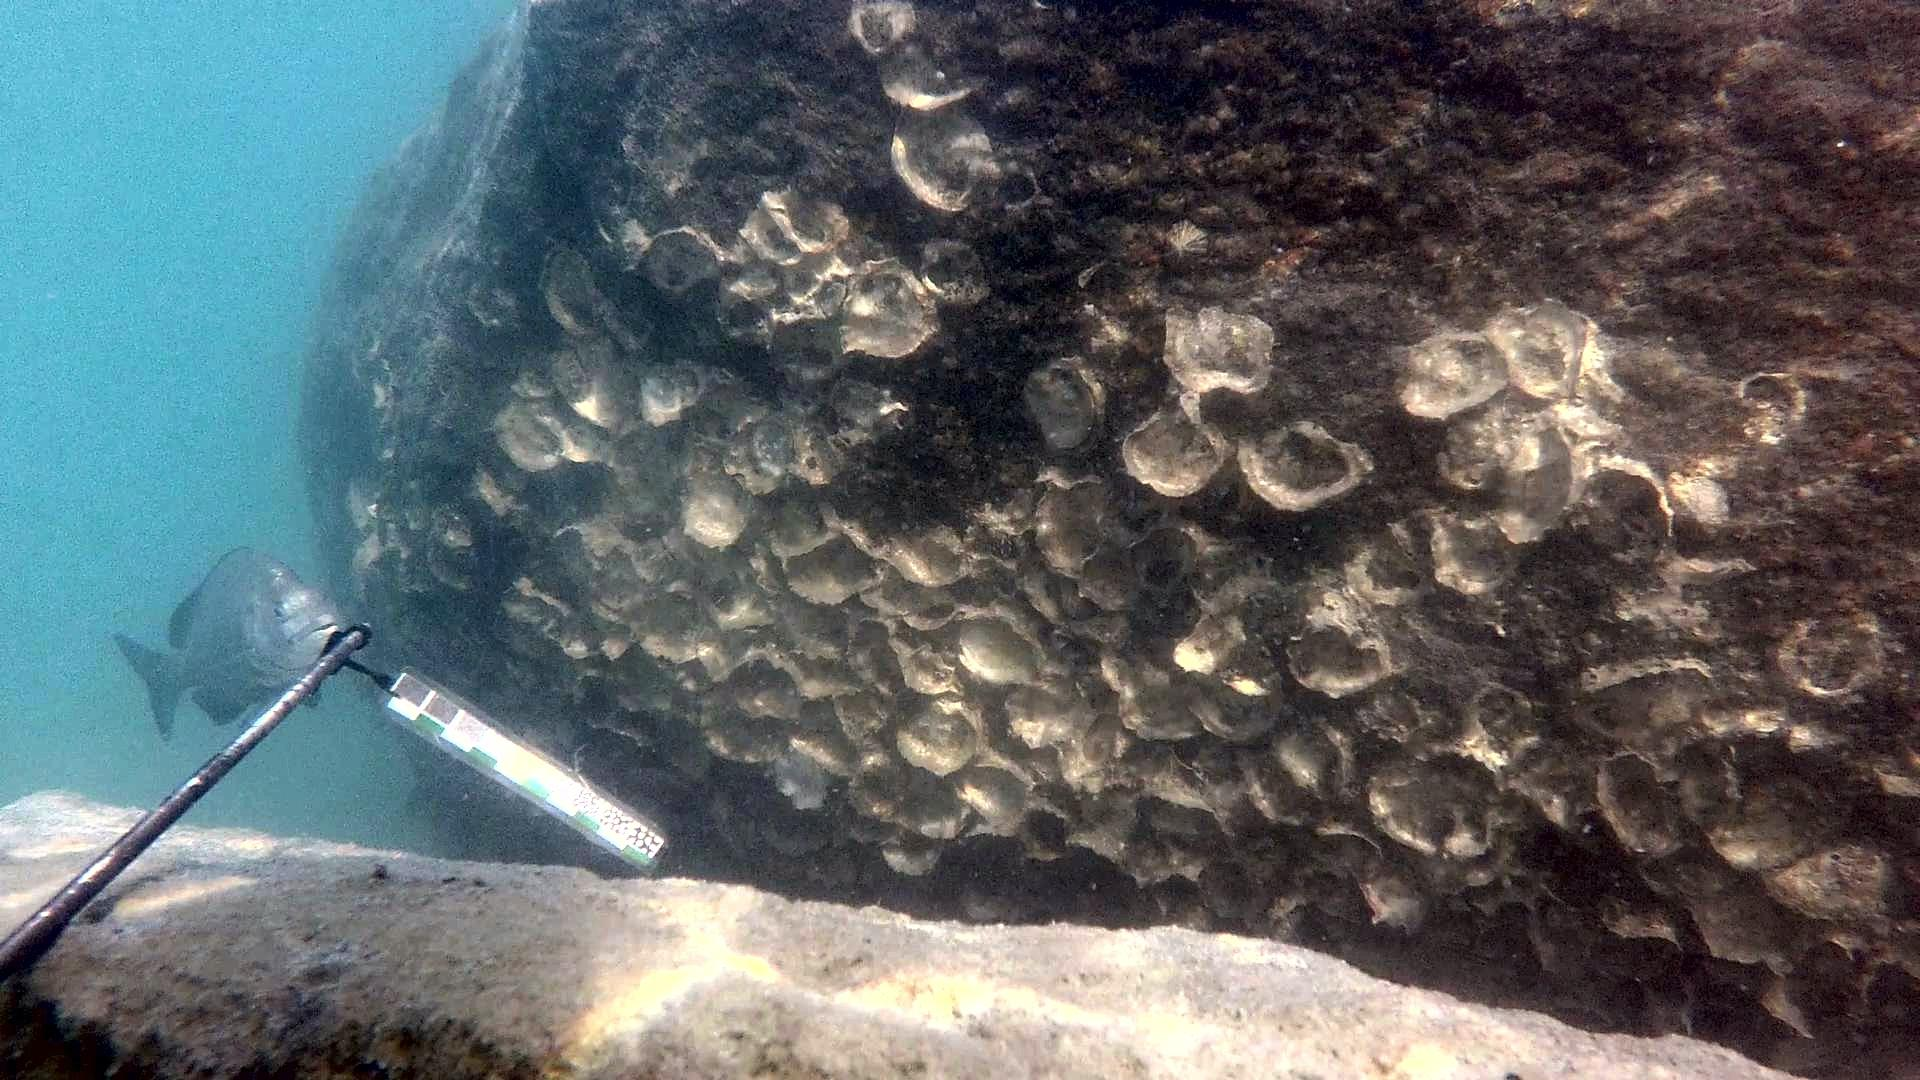acanthopagrus palmaris: (105, 535, 356, 740)
